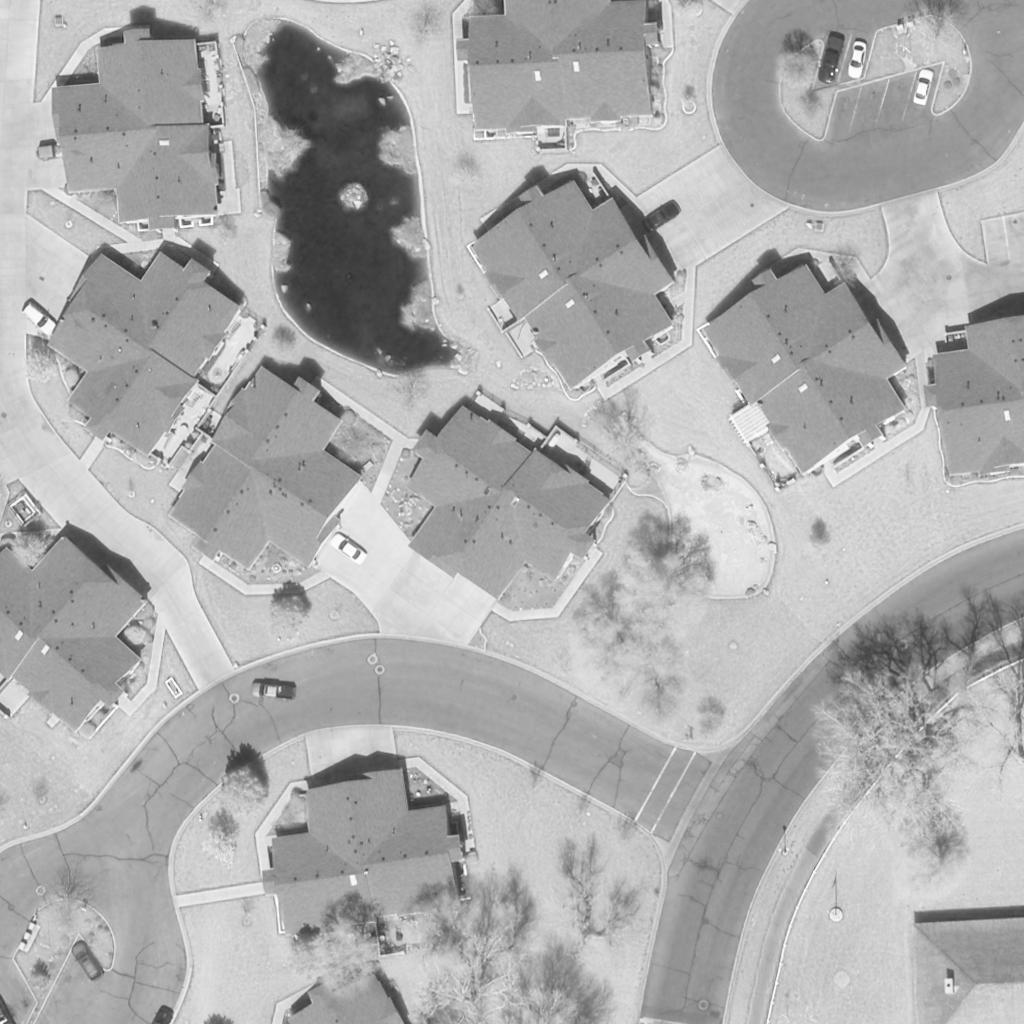vehicle: (69, 943, 105, 983), (640, 201, 682, 235), (817, 33, 845, 83), (21, 302, 59, 338), (329, 533, 369, 565), (908, 69, 938, 107), (249, 681, 297, 701), (847, 39, 867, 81), (148, 1008, 174, 1024), (38, 147, 70, 159)
